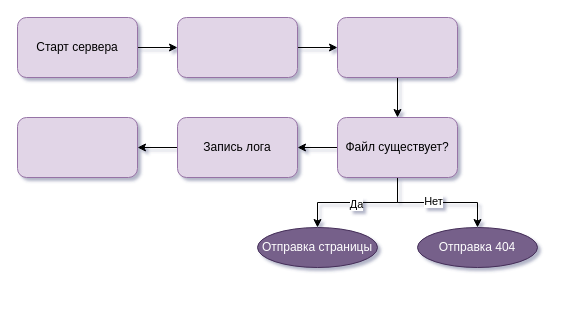
This 561x309 diagram has some shape labels left out. Here are the shapes that lost their labels. From the top down, the box of each, then its label:
(176, 16, 298, 78): Ожидание подключения
(336, 16, 458, 78): Получение HTTP запроса
(16, 116, 138, 178): Закрытие соединения
